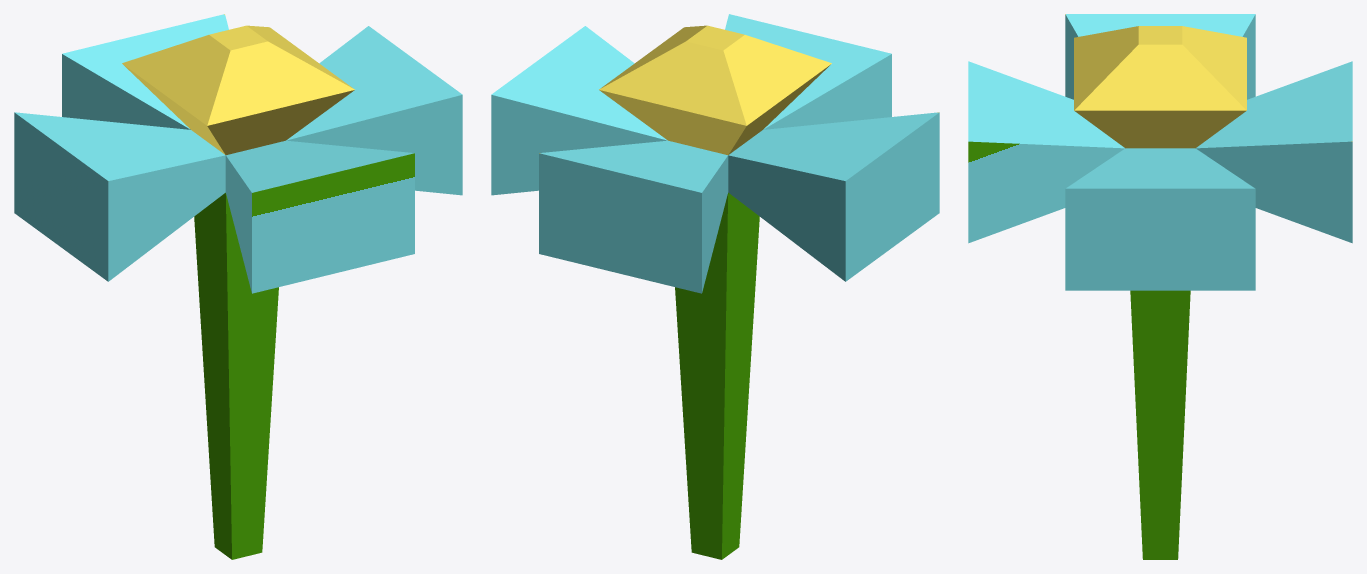
The model's file is flowers_1.fbx.
The picture shows the model from 3 angles, left to right: view 1: azimuth 30°, elevation 25°; view 2: azimuth 150°, elevation 25°; view 3: azimuth 270°, elevation 25°; orthographic projection.
Visible parts, largest first — view 1: forest_flower_1_LOD0; view 2: forest_flower_1_LOD0; view 3: forest_flower_1_LOD0.
Part boxes in pixels (left/top/right/bottom): forest_flower_1_LOD0: left=14, top=14, right=462, bottom=559; forest_flower_1_LOD0: left=491, top=14, right=939, bottom=559; forest_flower_1_LOD0: left=968, top=14, right=1352, bottom=559.
Size of what is drawn, in the model's own units: 58.96 by 81.36 by 54.78.
